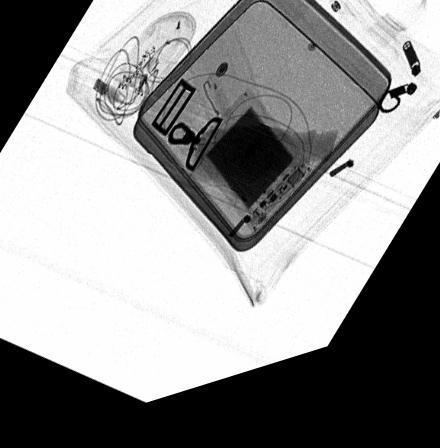Powerbank: (187, 100, 314, 250)
